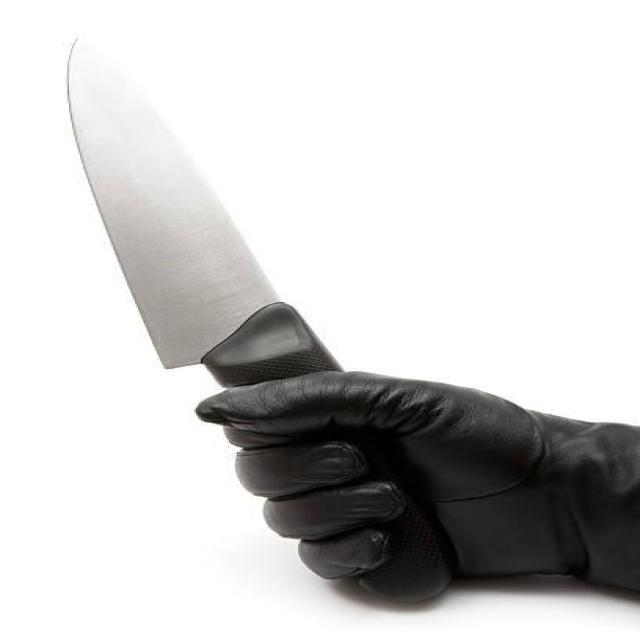faca: (41, 27, 542, 610)
